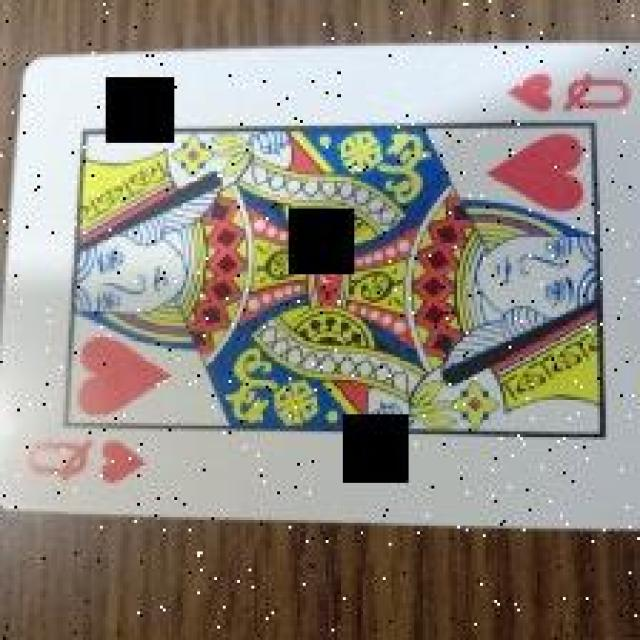Queen of hearts: (0, 45, 640, 528)
